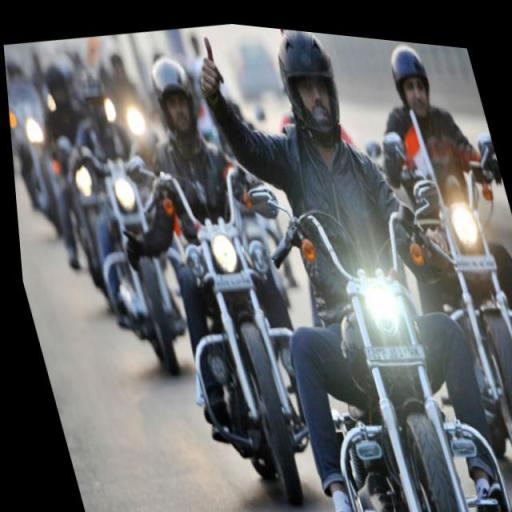Helmet: (264, 22, 358, 150)
Motor: (294, 189, 487, 512)
